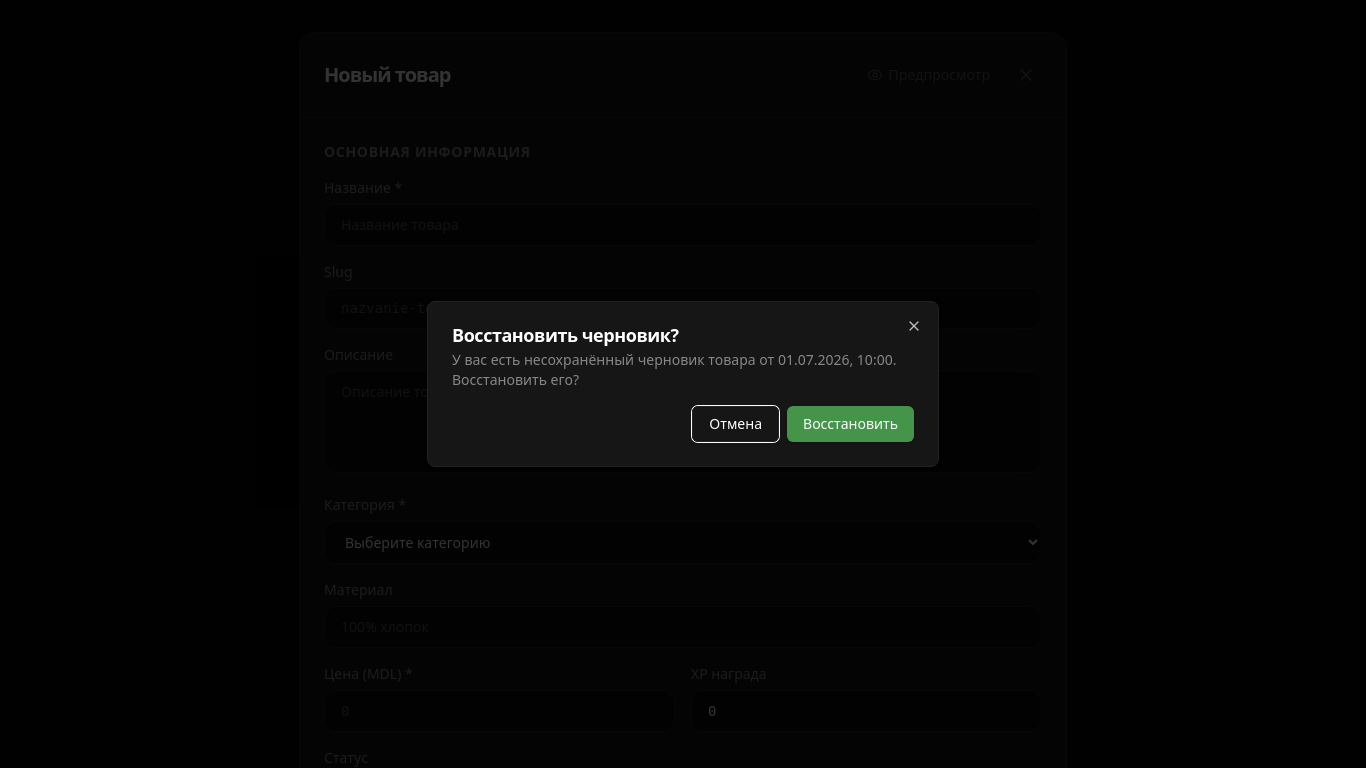
Test case: ProductForm — open / autosave › offers to restore a pre-existing draft and populates the form on confirm
This screenshot has width=1366, height=768.
expect the dialog with test id "pf-restore-dialog" is shown: met, box [427,301,939,467]
Click the button with test id "pf-restore-confirm" at (850, 424), box [787,406,914,442]
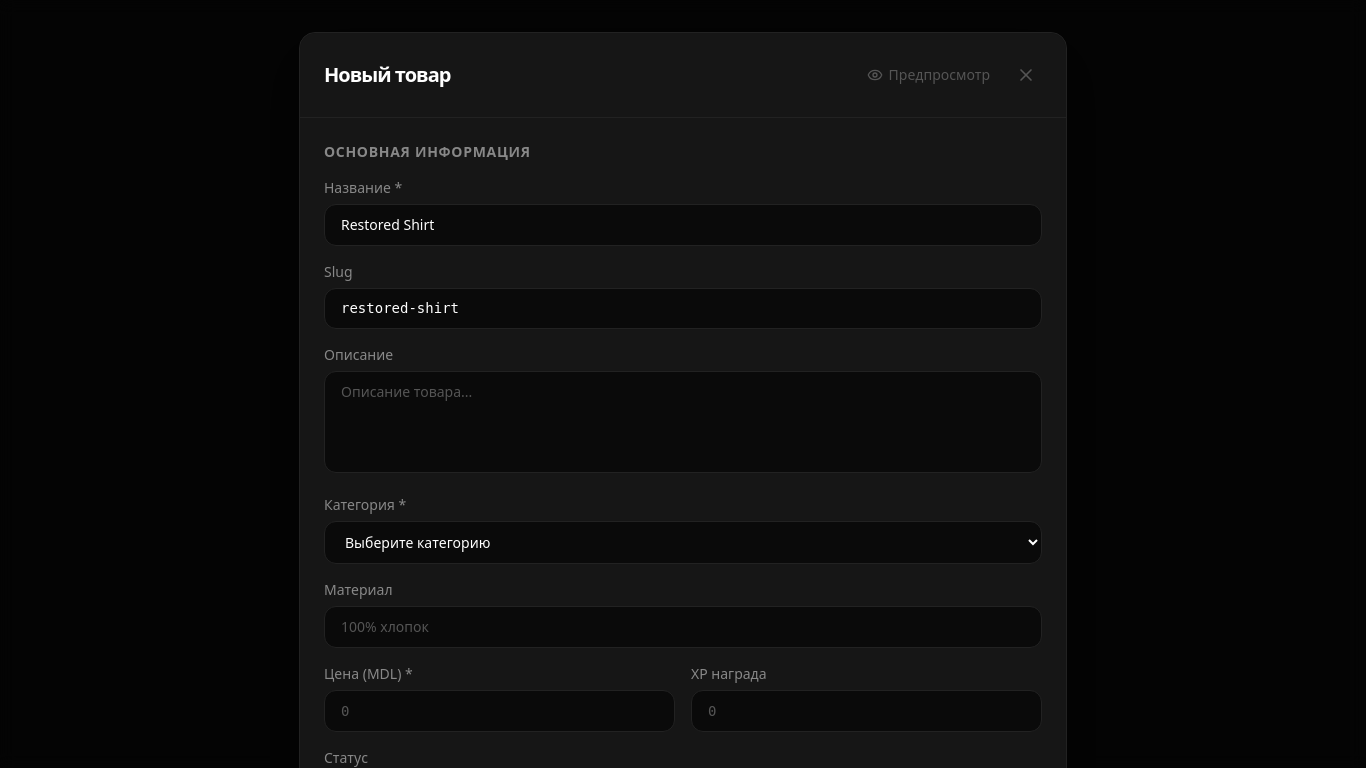
expect the field with test id "pf-name" holds "Restored Shirt": met, box [324,204,1042,246]
